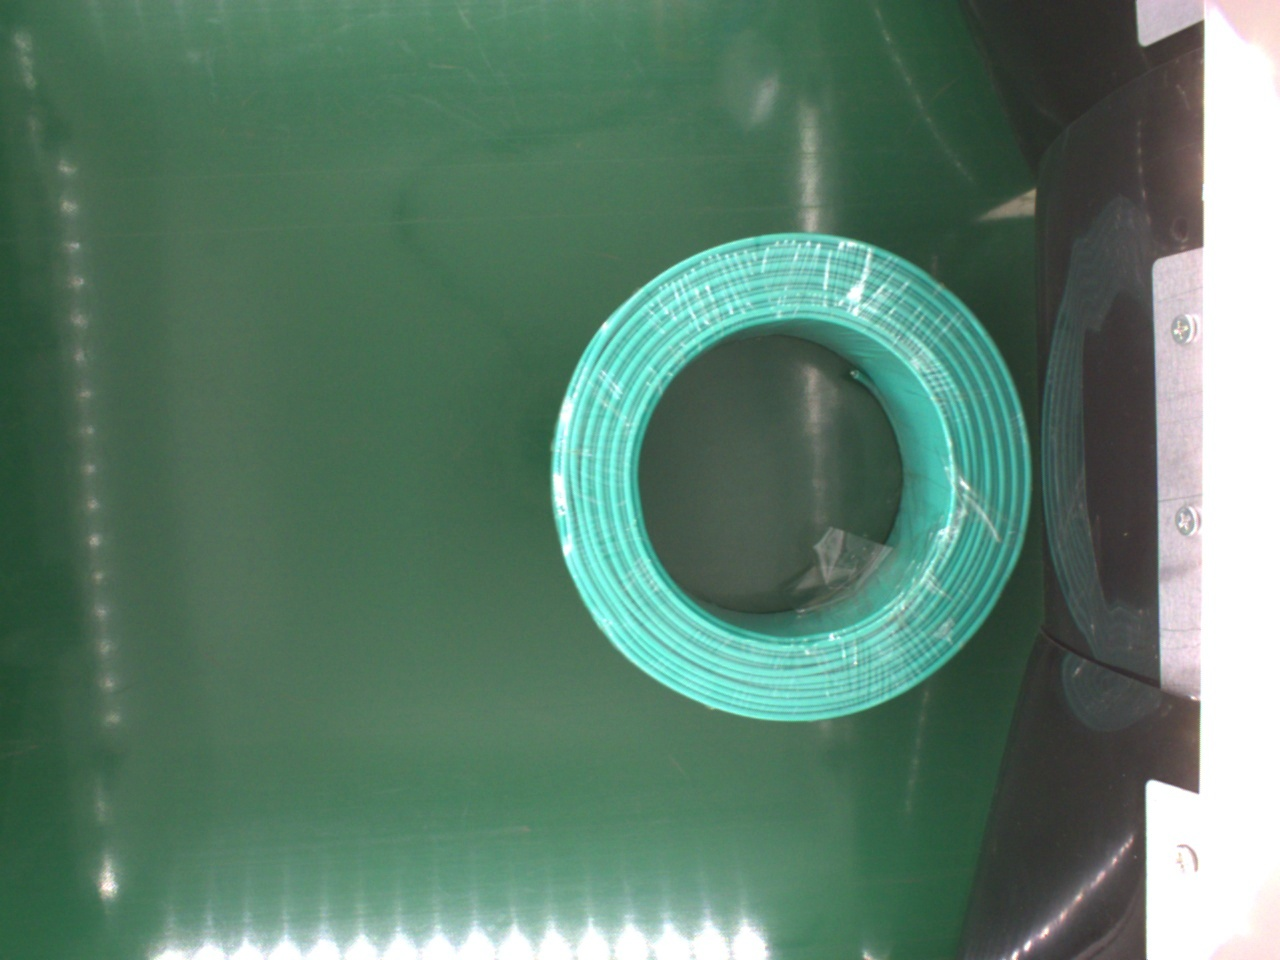green: (549, 230, 1033, 724)
